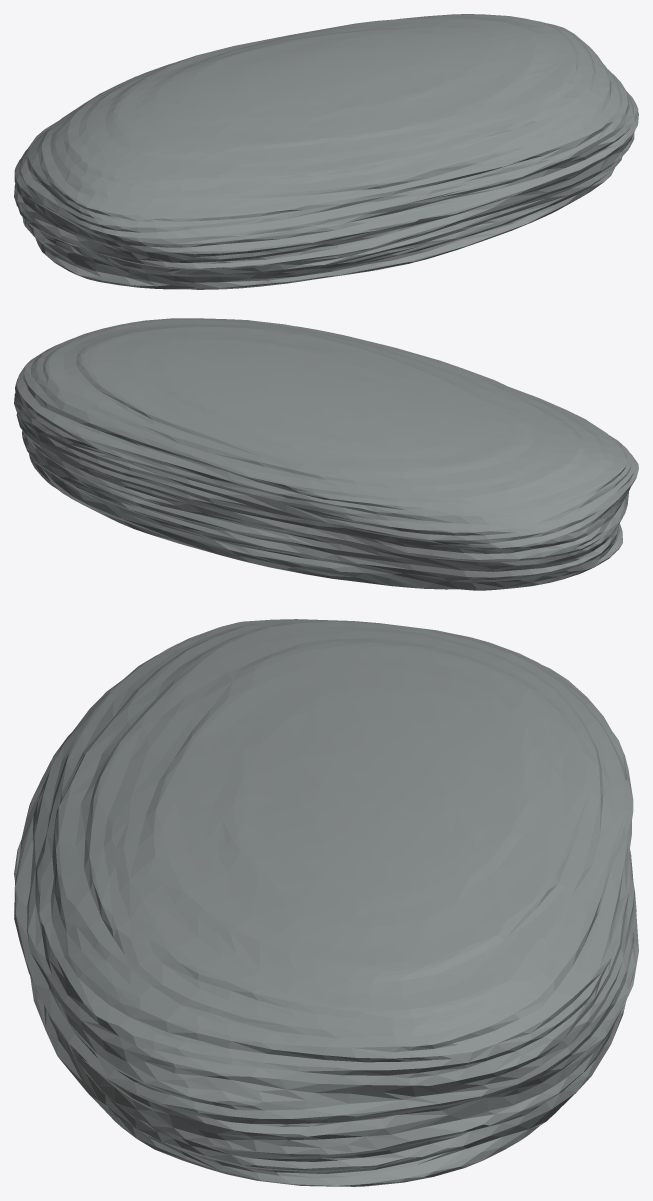
File: mesh_rock_huge_04.fbx
3 views of the same model, one above another, from view 1: azimuth 30°, elevation 25°; view 2: azimuth 150°, elevation 25°; view 3: azimuth 270°, elevation 25° (orthographic). The views are drawn at different scales.
Parts seen in each view (by area): view 1: mesh_rock_huge_04_LOD0; view 2: mesh_rock_huge_04_LOD0; view 3: mesh_rock_huge_04_LOD0.
Boxes of the visible parts, x1,y1,x2,y2 form: mesh_rock_huge_04_LOD0: [14, 14, 638, 289]; mesh_rock_huge_04_LOD0: [14, 318, 638, 590]; mesh_rock_huge_04_LOD0: [14, 619, 638, 1186].
Size of what is drawn, in the model's own units: 11.61 by 2.22 by 6.61.
